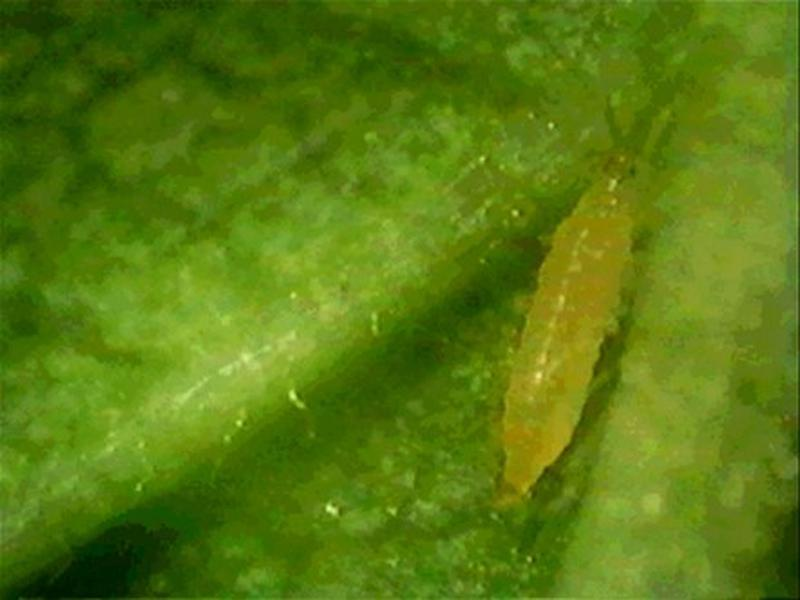Thrips: (447, 162, 651, 503)
